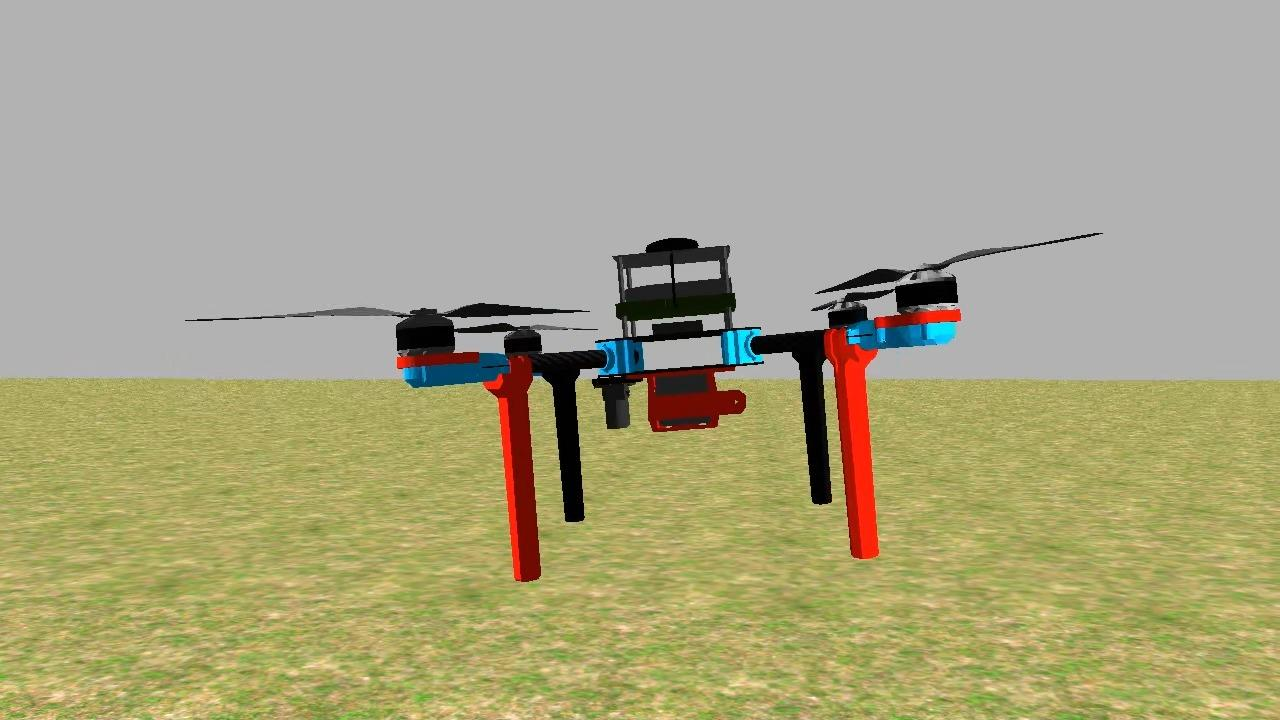UAV: (391, 228, 970, 586)
